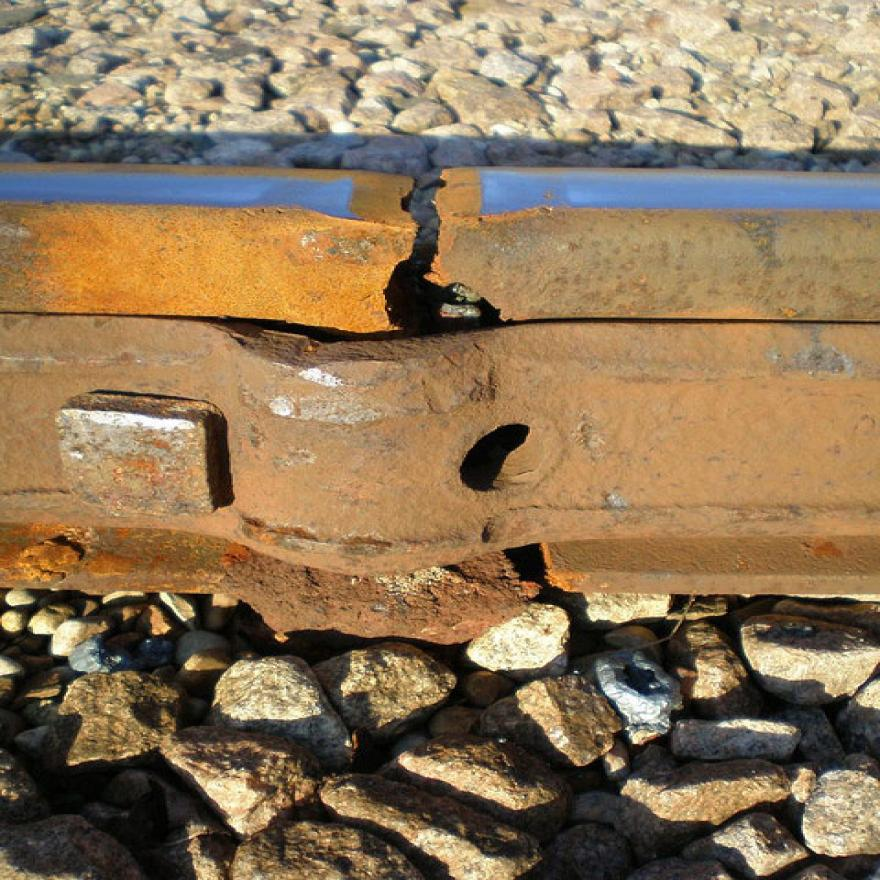railway-gap: (263, 141, 582, 398)
